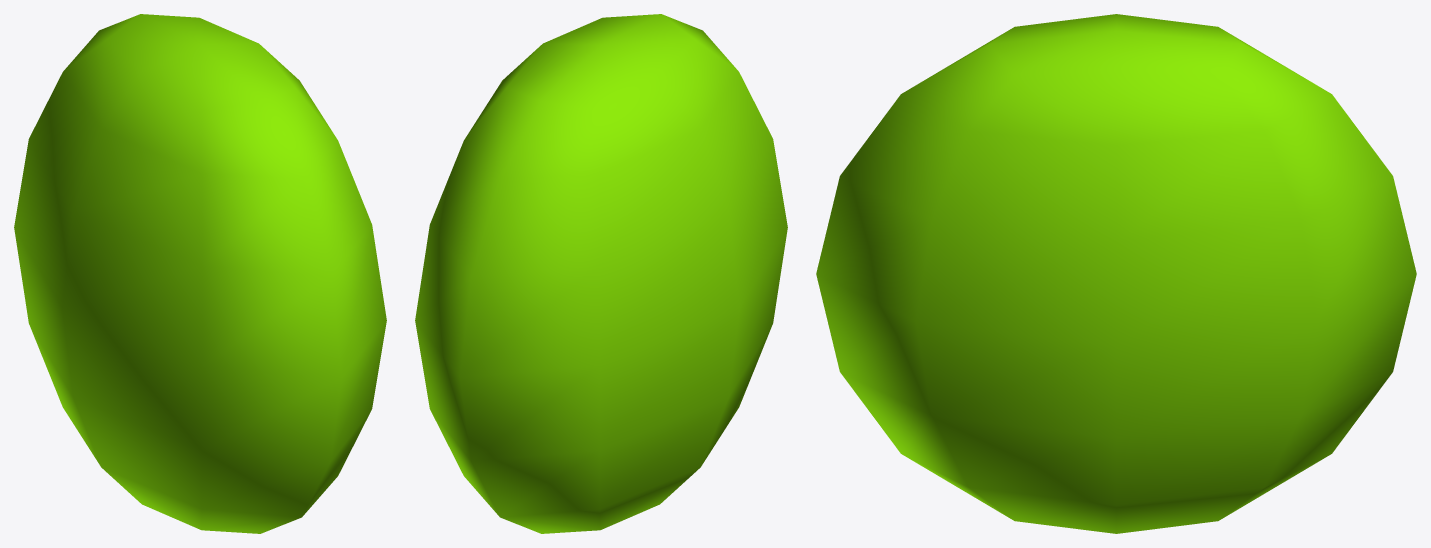
Rendered from Green.fbx.
3 renders of one model, left to right at view 1: azimuth 30°, elevation 25°; view 2: azimuth 150°, elevation 25°; view 3: azimuth 270°, elevation 25°, orthographic. The views are drawn at different scales.
Visible parts, largest first — view 1: green; view 2: green; view 3: green.
Part boxes in pixels (<box>): green: <box>14,14,386,533</box>; green: <box>415,14,787,533</box>; green: <box>816,14,1416,533</box>.
Size of the model in its own units: 0.0508 by 0.0804 by 0.09.
